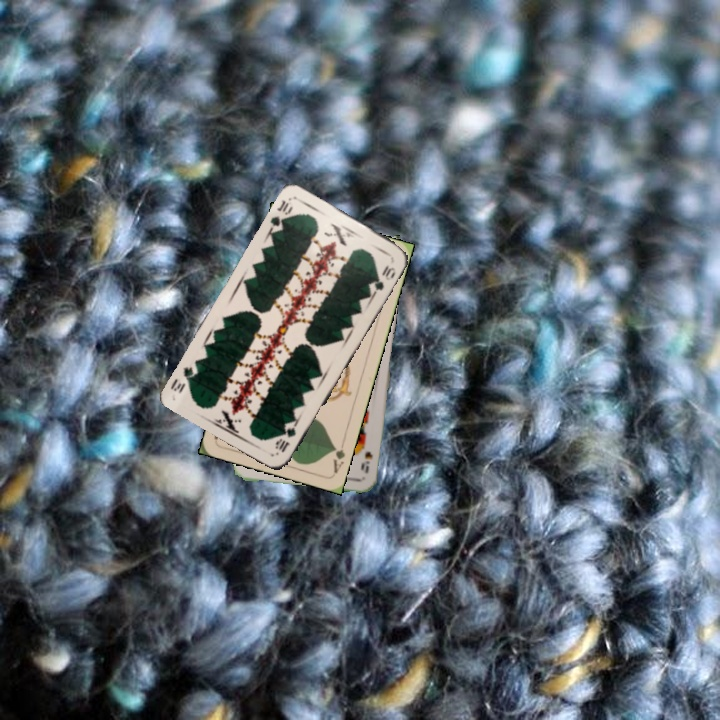G10: (266, 196, 295, 233), (272, 417, 300, 455)
GA: (328, 442, 348, 476)
S9: (357, 447, 376, 475)
